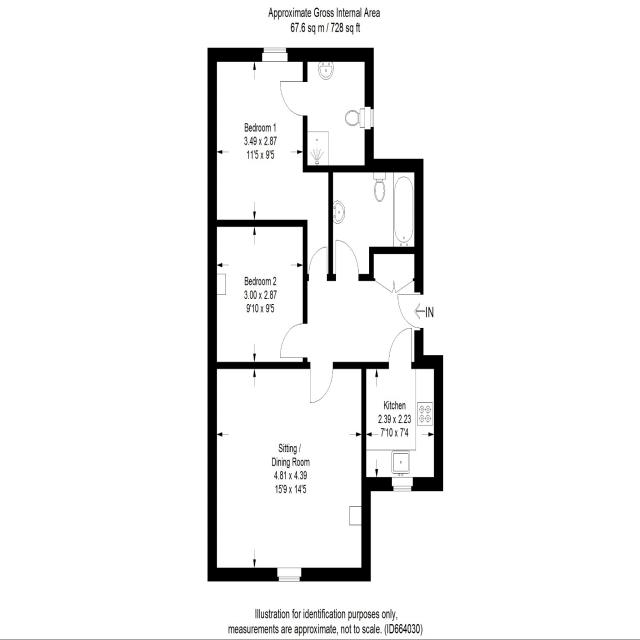DOOR: (388, 326, 413, 370), (309, 361, 334, 404), (335, 239, 360, 282), (279, 80, 308, 117), (279, 322, 308, 359), (396, 293, 424, 330), (308, 245, 328, 281)
ROOM: (207, 361, 372, 583), (207, 47, 334, 281), (207, 219, 308, 369), (361, 327, 443, 491)
WINDOW: (262, 47, 288, 62), (277, 567, 302, 582), (391, 477, 413, 492), (364, 106, 374, 130)
